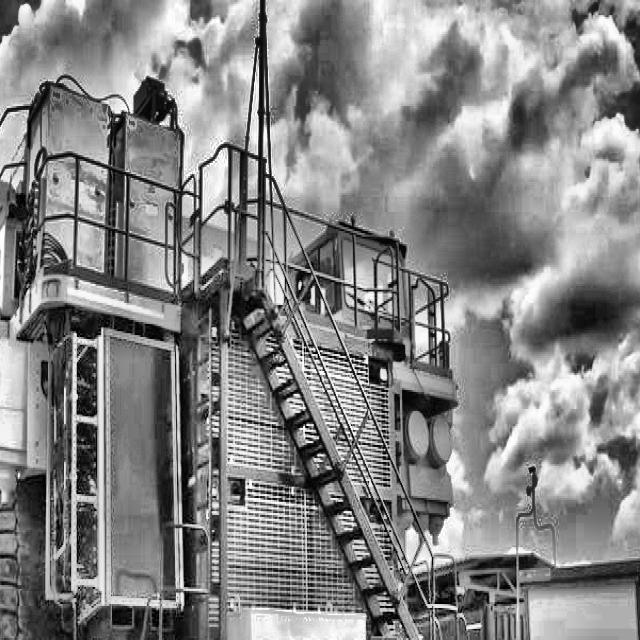dump_truck: (0, 21, 444, 640)
